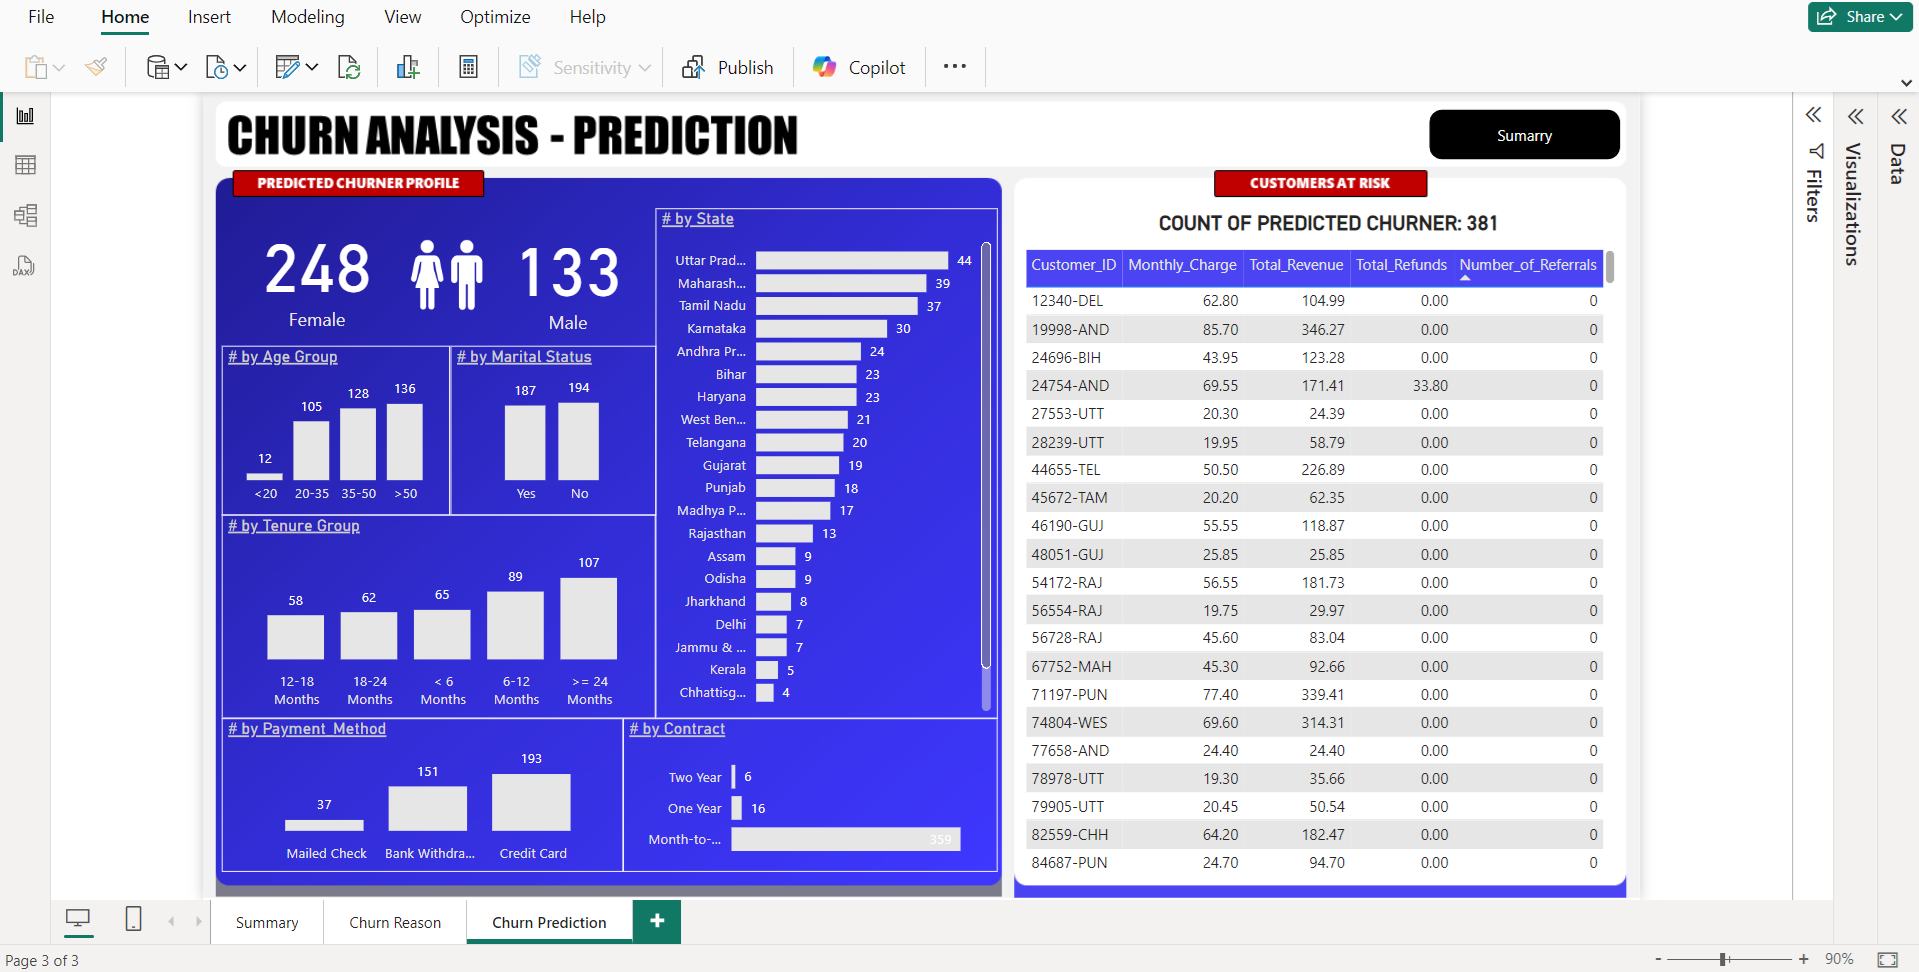

What the dashboard file says about the page in this screenshot:
{"tool":"powerbi","page":{"name":"Churn Prediction","canvas":[1280,720],"ordinal":2},"visuals":[{"type":"tableEx","fields":{"Values":["Predictions.Customer_ID","Predictions.Monthly_Charge","Sum(Predictions.Total_Revenue)","Sum(Predictions.Total_Refunds)","Sum(Predictions.Number_of_Referrals)"]},"box":[726.7,136,534.9,559.3],"z":0},{"type":"card","fields":{"Values":["tbl_Measures.Title Predicted Churner"]},"box":[819.3,99.1,367.3,45.6],"z":1000},{"type":"card","fields":{"Values":["tbl_Measures.Count Predicted Churner"]},"box":[15.6,99.1,171.4,122.4],"z":2000},{"type":"card","fields":{"Values":["tbl_Measures.Count Predicted Churner"]},"box":[247.1,99.1,155.8,128],"z":3000},{"type":"clusteredColumnChart","fields":{"Category":["mapping_AgeGrp.Age Group"],"Y":["CountNonNull(Predictions.Customer_ID)"]},"box":[16.7,227.1,203.7,149.2],"z":4000},{"type":"clusteredColumnChart","fields":{"Category":["Predictions.Married"],"Y":["CountNonNull(Predictions.Customer_ID)"]},"box":[220,226.7,183.3,148.9],"z":5000},{"type":"clusteredColumnChart","fields":{"Category":["mapping_TenureGrp.Tenure Group"],"Y":["CountNonNull(Predictions.Customer_ID)"]},"box":[16.7,376.3,386.3,181.4],"z":6000},{"type":"clusteredBarChart","fields":{"Category":["Predictions.Contract"],"Y":["CountNonNull(Predictions.Customer_ID)"]},"box":[374,557.7,334,136.9],"z":7000},{"type":"clusteredColumnChart","fields":{"Y":["CountNonNull(Predictions.Customer_ID)"],"Category":["Predictions.Payment_Method"]},"box":[16.7,557.8,357.8,136.7],"z":8000},{"type":"clusteredBarChart","fields":{"Category":["Predictions.State"],"Y":["CountNonNull(Predictions.Customer_ID)"]},"box":[403,103.5,305,454.2],"z":9000},{"type":"image","box":[172.2,103.3,88.9,117.8],"z":10000},{"type":"shape","box":[1090.7,12.8,170.9,45.3],"z":10001}]}

Visuals, with their boxes on the page's 1280x720 design canvas (x1, y1, x2, y2). These are canvas units, not pixel positions in the 1919x972 screenshot, which may show the page scaled, cropped or inside an application window:
tableEx - Predictions.Customer_ID x Predictions.Monthly_Charge: 727/136/1262/695
card - tbl_Measures.Title Predicted Churner: 819/99/1187/145
card - tbl_Measures.Count Predicted Churner: 16/99/187/222
card - tbl_Measures.Count Predicted Churner: 247/99/403/227
clusteredColumnChart - mapping_AgeGrp.Age Group x CountNonNull(Predictions.Customer_ID): 17/227/220/376
clusteredColumnChart - Predictions.Married x CountNonNull(Predictions.Customer_ID): 220/227/403/376
clusteredColumnChart - mapping_TenureGrp.Tenure Group x CountNonNull(Predictions.Customer_ID): 17/376/403/558
clusteredBarChart - Predictions.Contract x CountNonNull(Predictions.Customer_ID): 374/558/708/695
clusteredColumnChart - CountNonNull(Predictions.Customer_ID) x Predictions.Payment_Method: 17/558/374/694
clusteredBarChart - Predictions.State x CountNonNull(Predictions.Customer_ID): 403/104/708/558
image: 172/103/261/221
shape: 1091/13/1262/58
